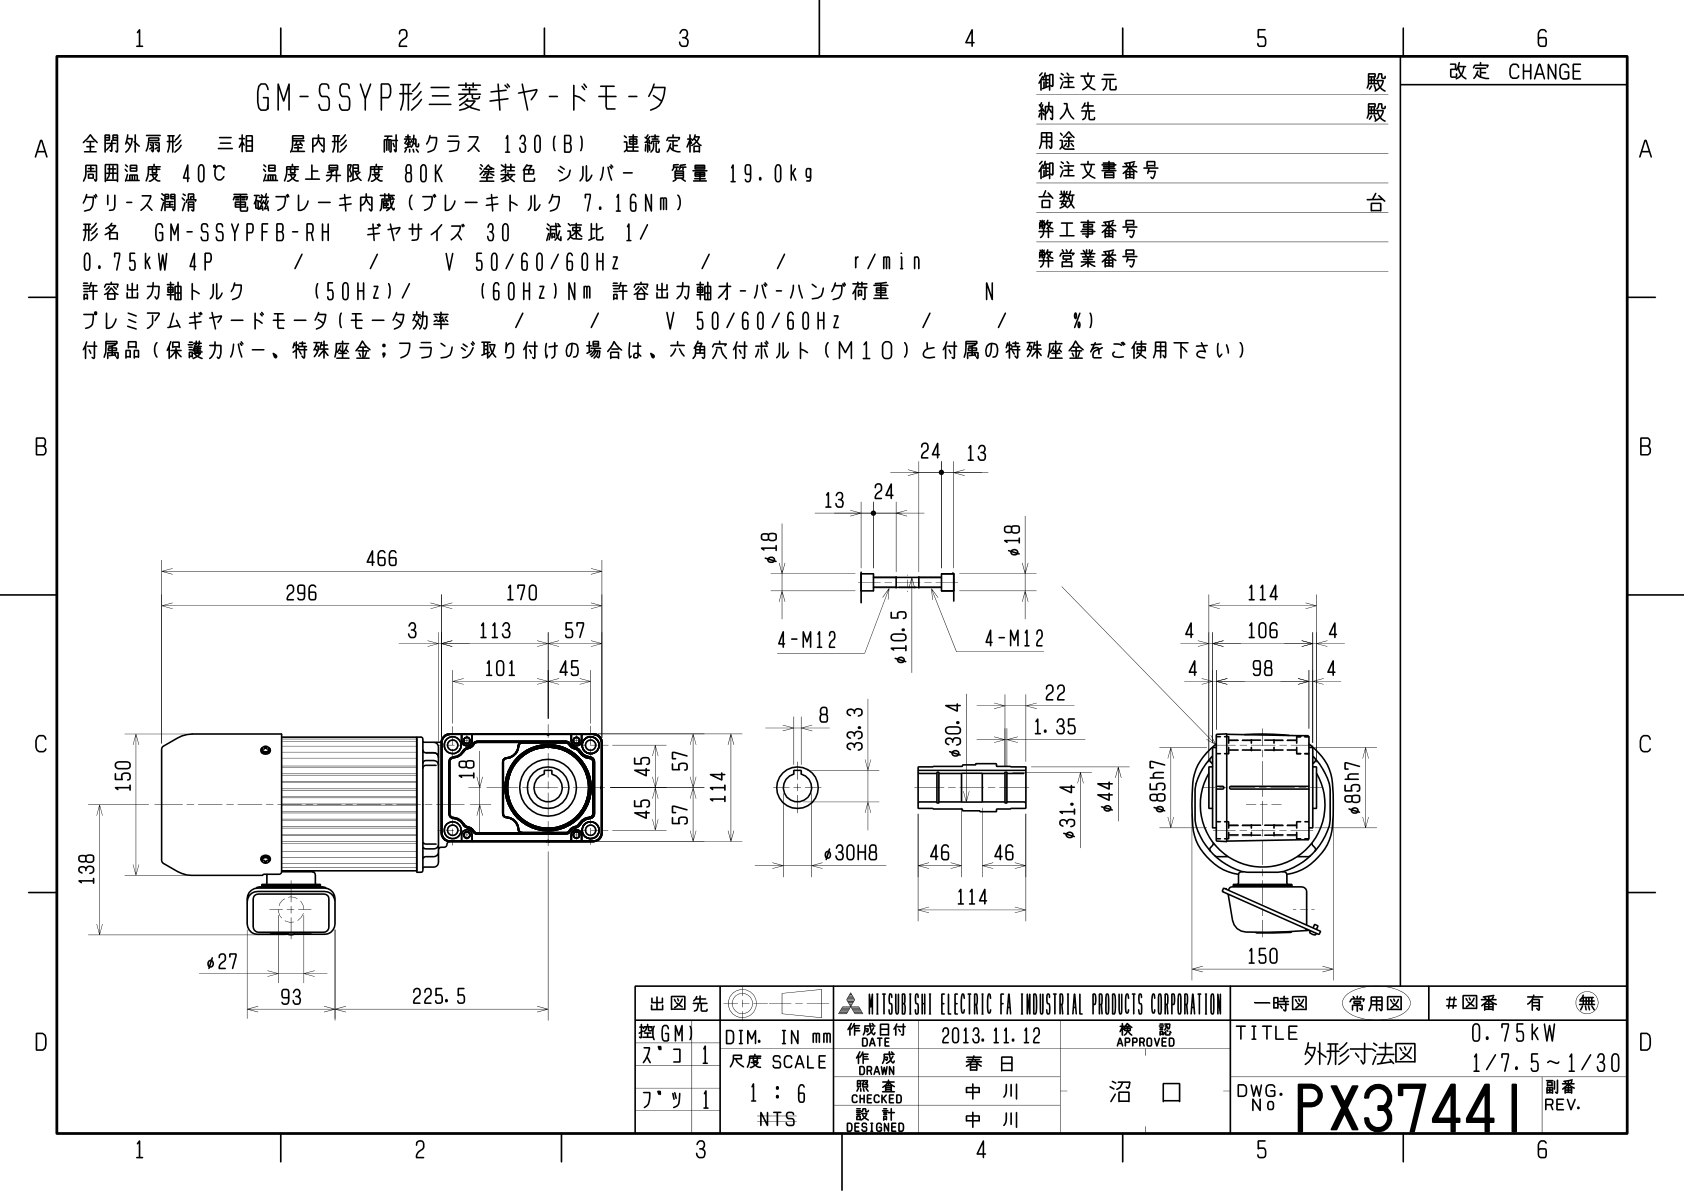GM_SSYP_屋内_三相: (1, 1, 1671, 1179)
